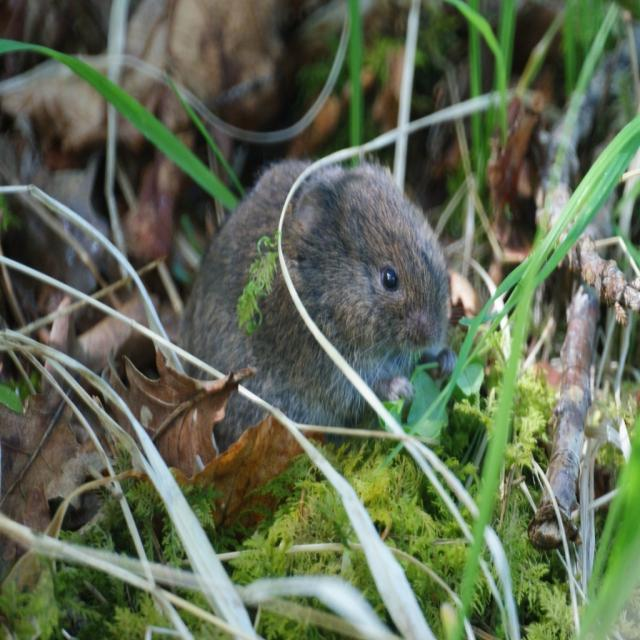rat: (175, 156, 450, 450)
